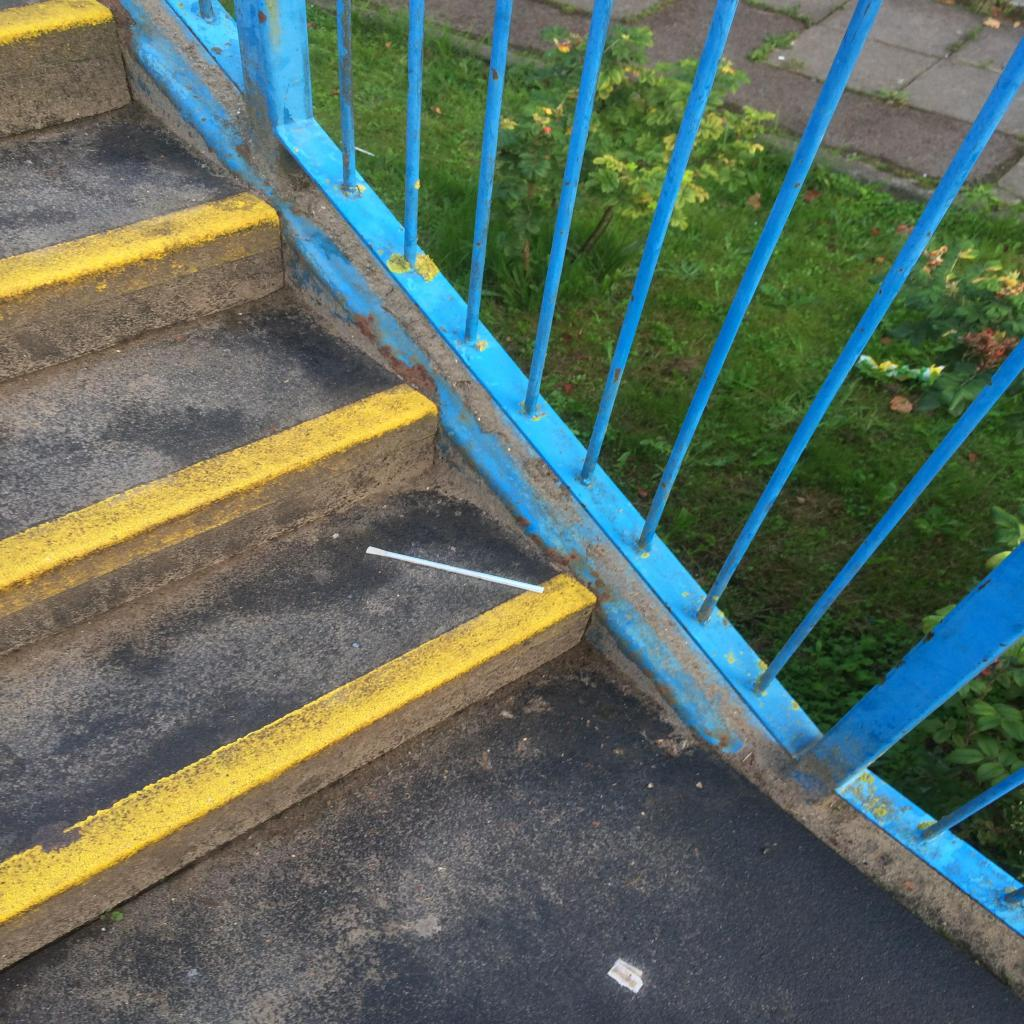Plastic straw: (366, 546, 544, 594)
Unlabeled litter: (607, 958, 643, 993)
